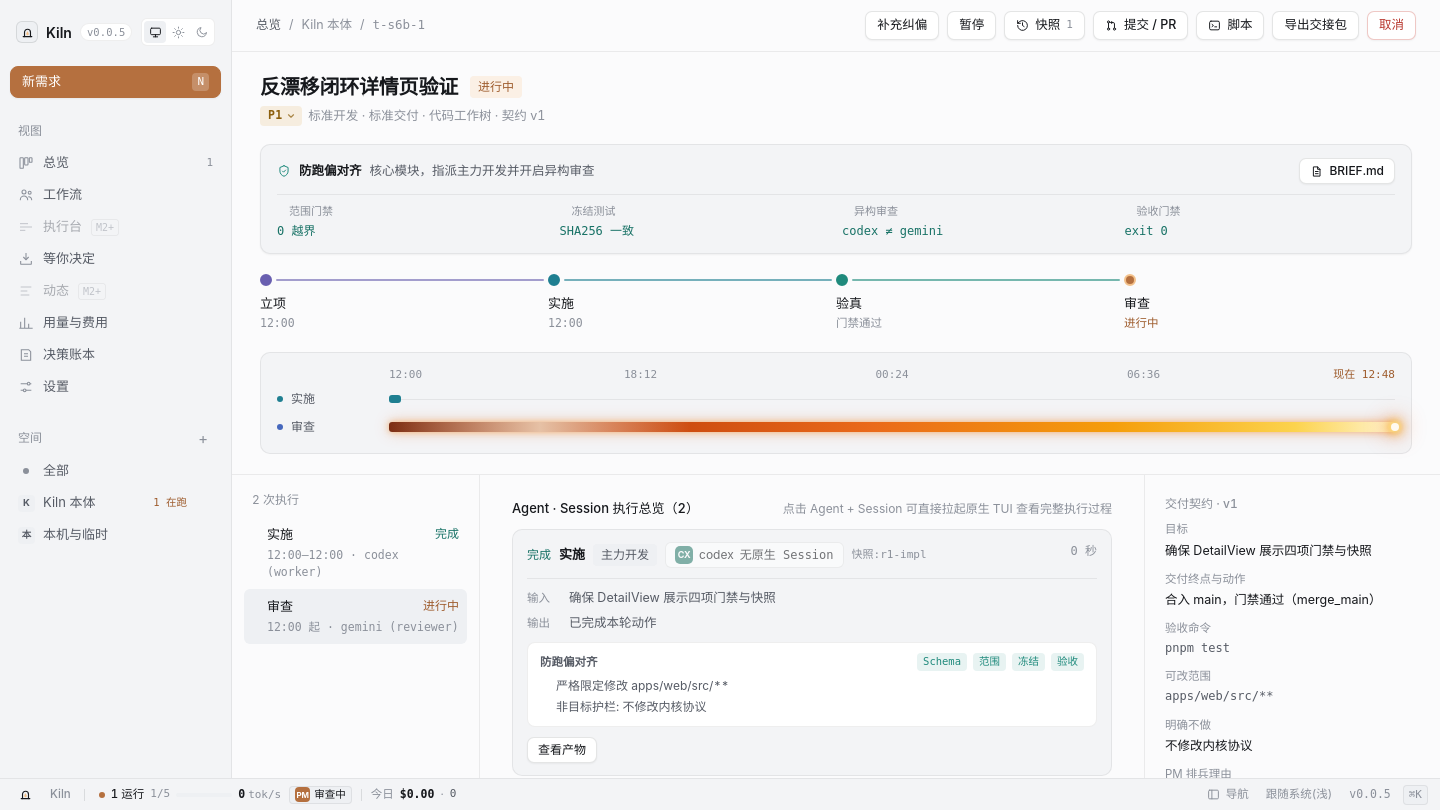
Scenario: @kiln/web Slice 6b DetailView & IntakeView › renders DetailView 4-gate header, RESEARCH/PLAN docs, antiDriftSummary, live context_window, attachments lightbox, and two-step checkpoint rollback
Later steps or results of the test are not shown.
Expected: the element named "防跑偏门禁状态" is shown, [260,144,1412,254]
Expected: the text "0 越界" is shown, [277,224,316,238]
Click the button "BRIEF.md": {"x": 1347, "y": 171} [1300,158,1395,184]
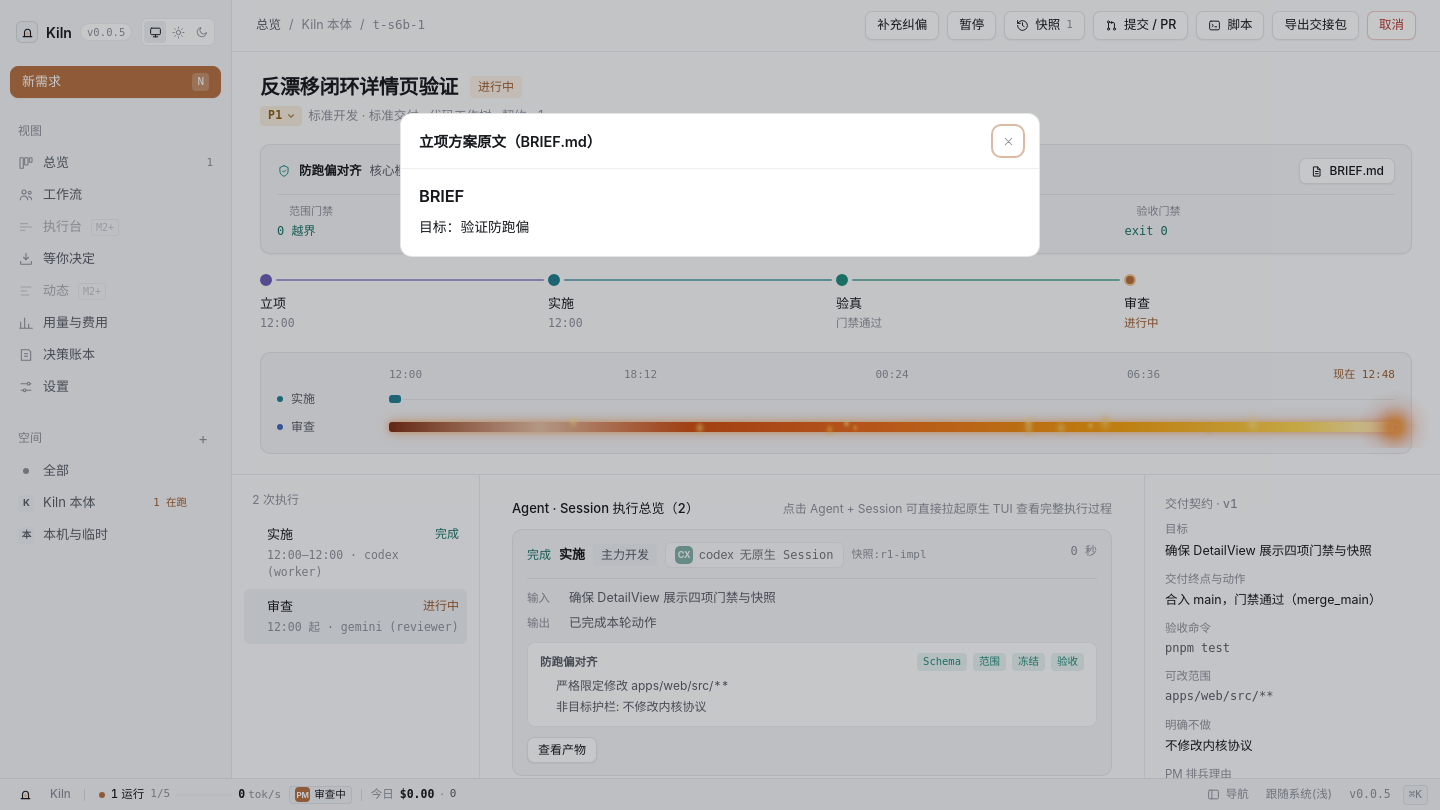
Now the heading "立项方案原文（BRIEF.md）" is shown, box [419,130,601,152]
Press Escape in the button named "关闭 BRIEF 弹窗", box [995,128,1021,154]
(page scrolled)
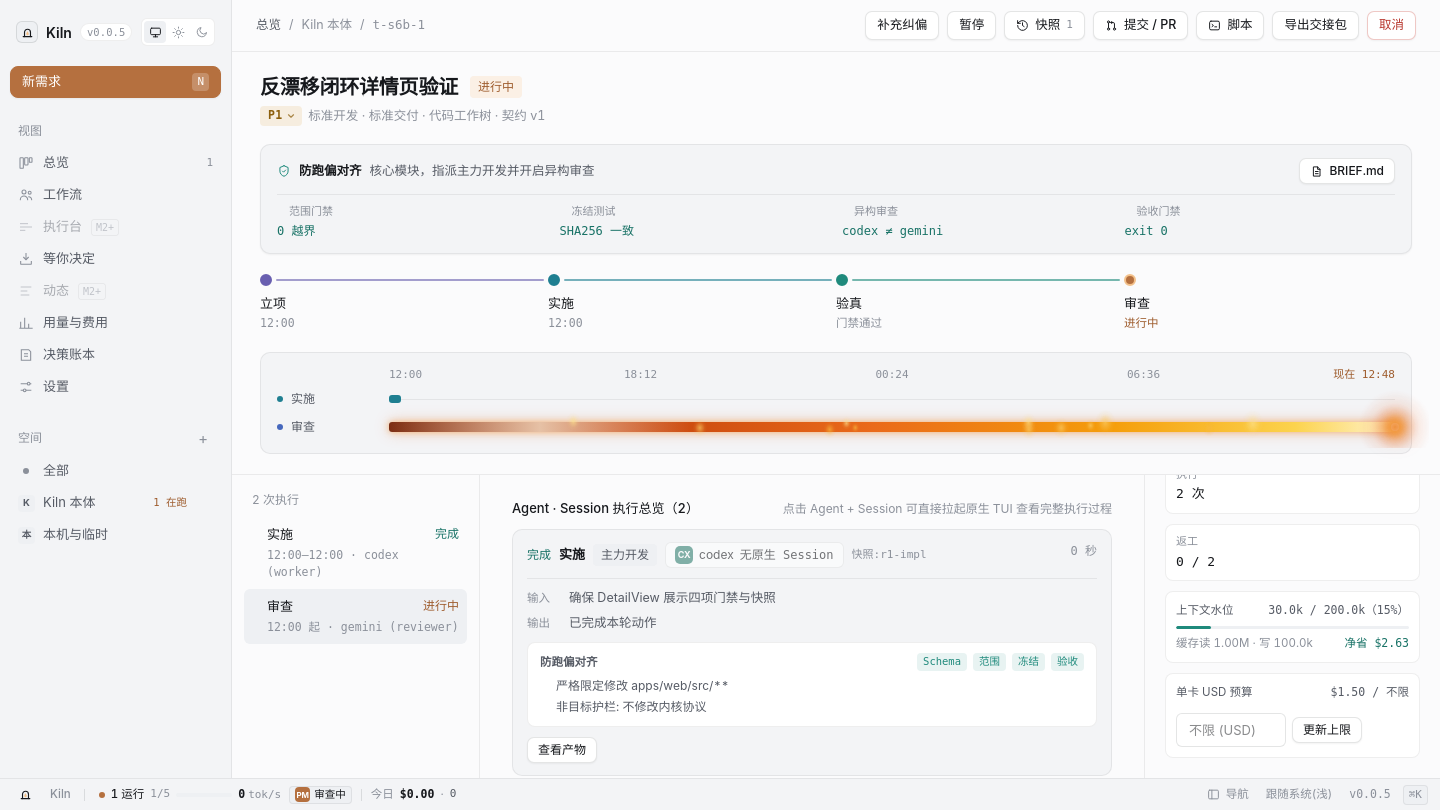
Now the heading "立项方案原文（BRIEF.md）" is gone
Now the text "30.0k / 200.0k（15%）" is shown, box [1268,602,1409,620]
Now the text "净省 $2.63" is shown, box [1344,635,1409,652]
